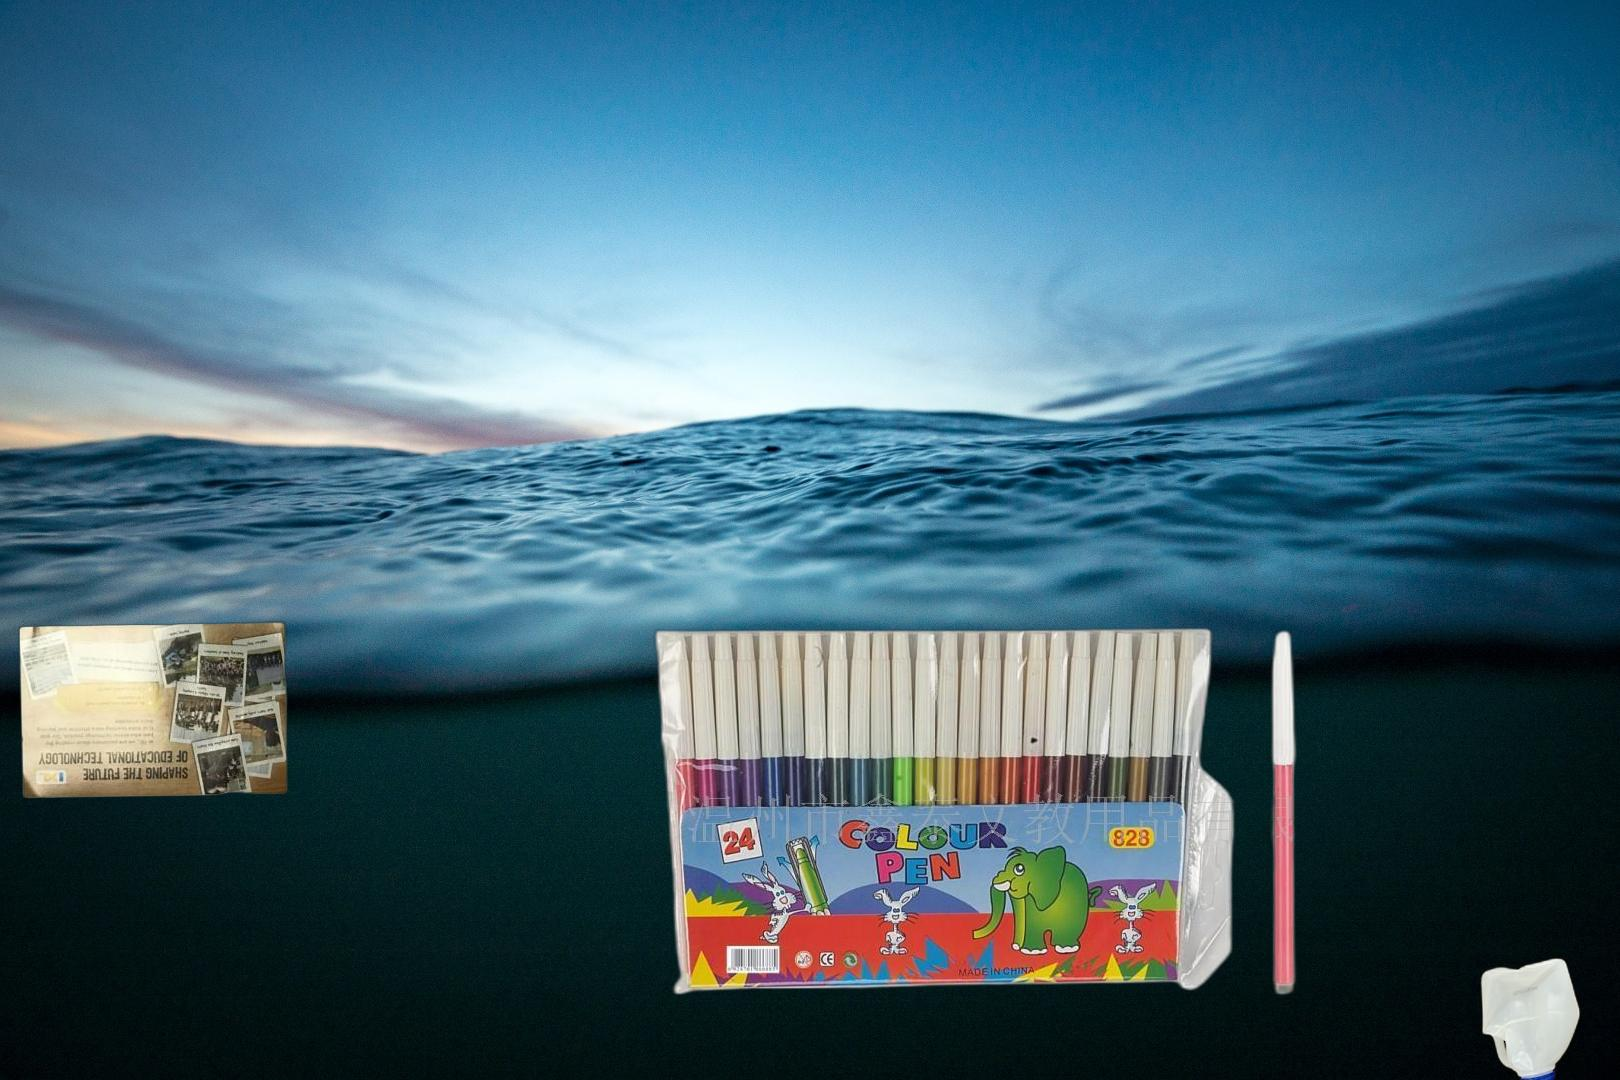paper: (14, 620, 292, 802)
penholder: (647, 623, 1386, 1000)
plastic-bottles: (1477, 951, 1585, 1080)
